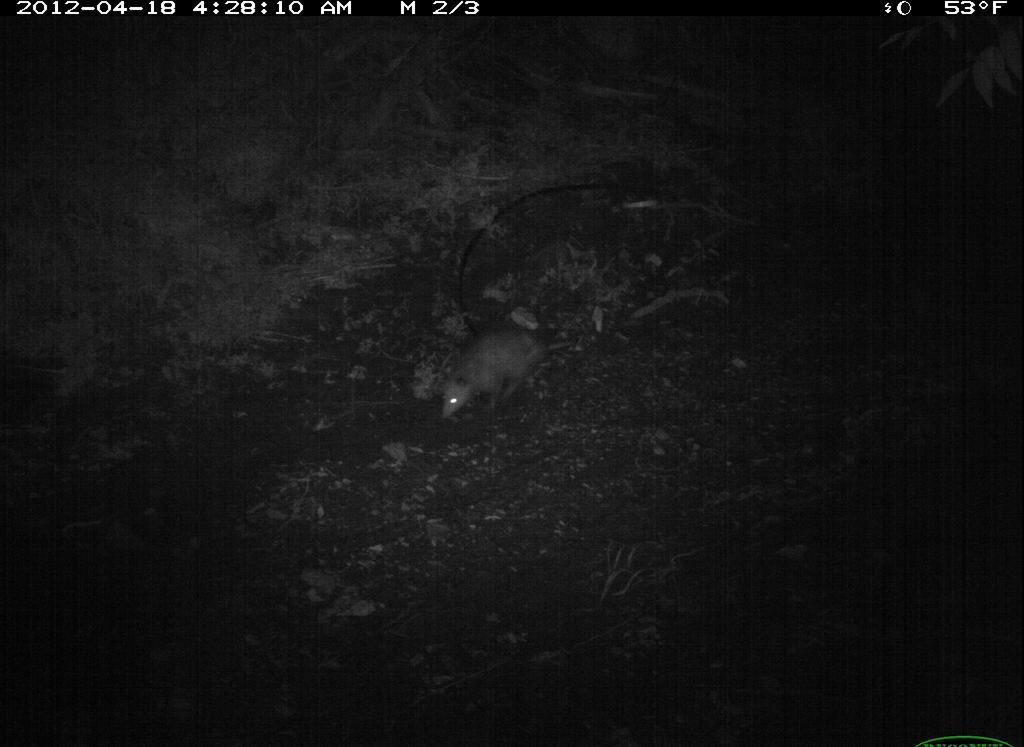opossum: (432, 323, 589, 428)
